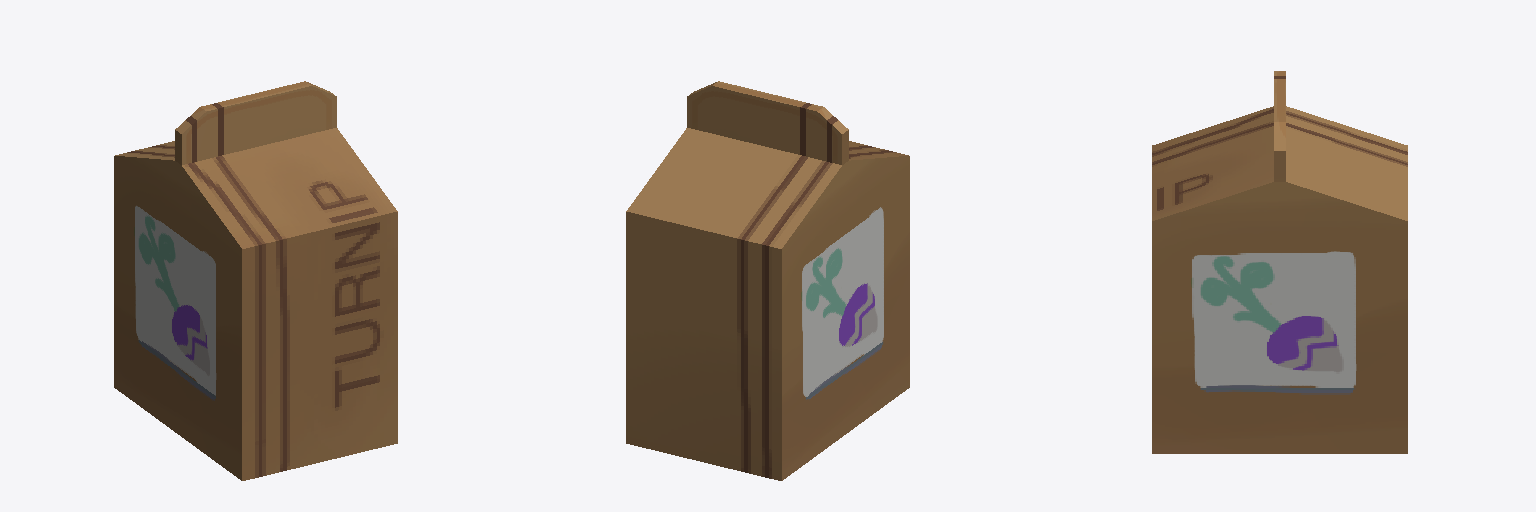
3 renders of one model, left to right at view 1: azimuth 30°, elevation 25°; view 2: azimuth 150°, elevation 25°; view 3: azimuth 270°, elevation 25°, orthographic.
Parts seen in each view (by area): view 1: Cube; view 2: Cube; view 3: Cube.
Boxes of the visible parts, <box> form: Cube: <box>114,81,397,480</box>; Cube: <box>626,81,909,480</box>; Cube: <box>1152,71,1407,453</box>.
Bounding box in the file's own units: 0.42 × 0.8255 × 0.6.
Materials: 1 (1 with a texture image).